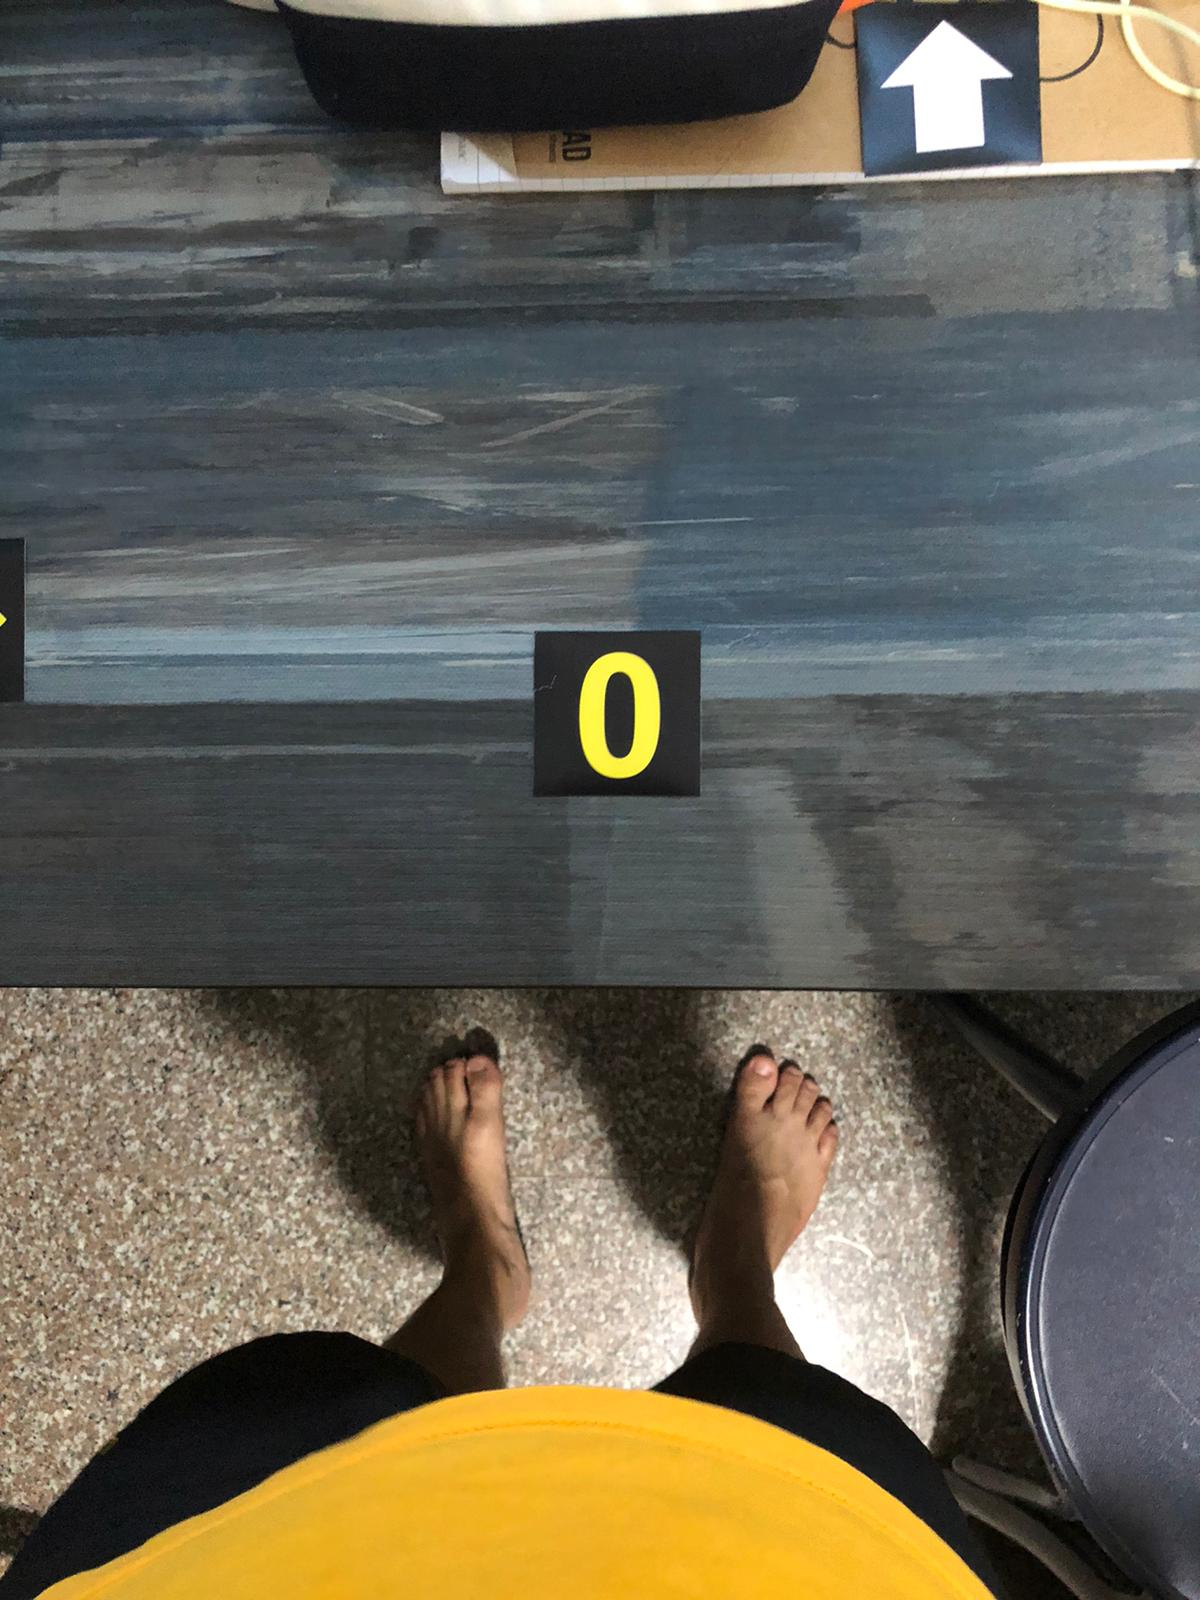Number 0: (534, 632, 705, 795)
